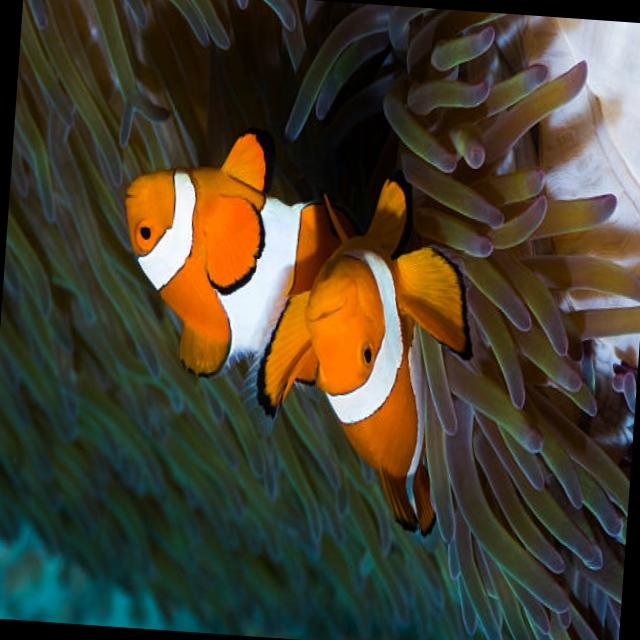ClownFish: (242, 161, 475, 545), (110, 118, 320, 397)
